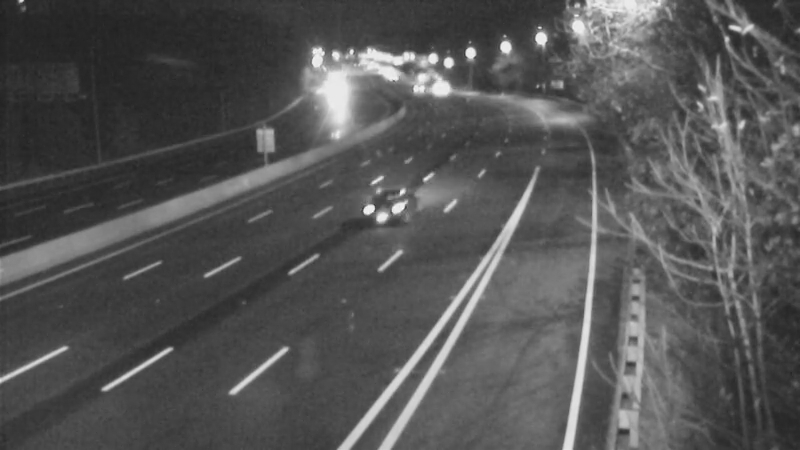vehicle: (340, 161, 420, 241), (394, 62, 444, 112), (414, 66, 464, 116), (310, 66, 360, 116)
